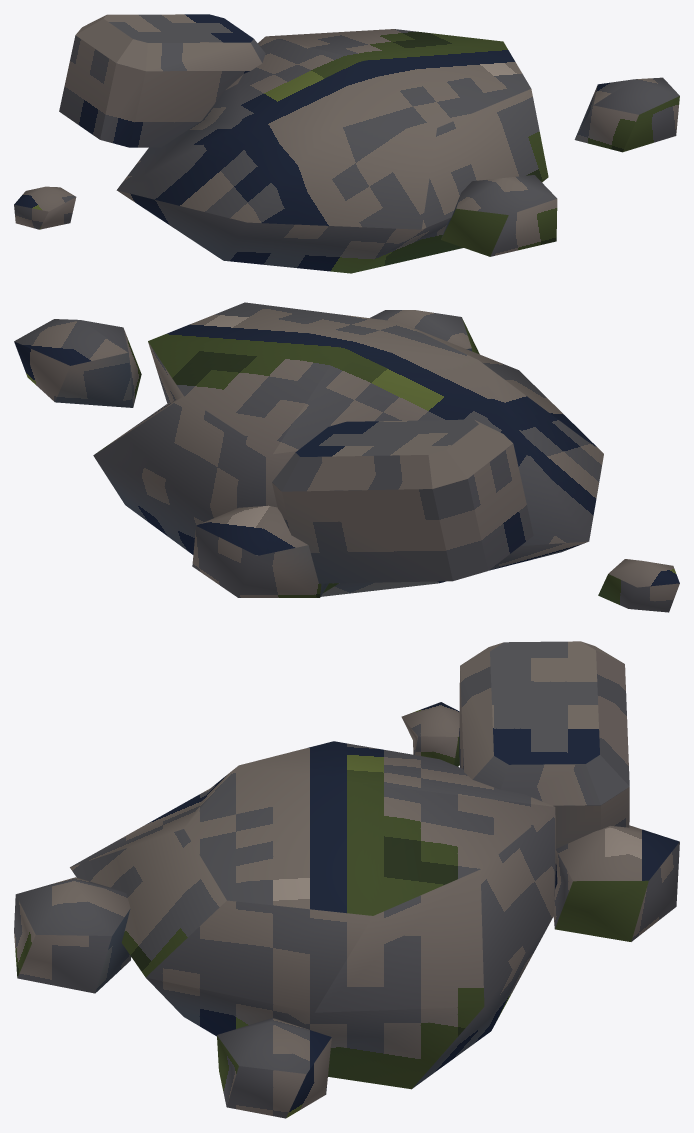
File: dgn.rubble__small.glb
The picture shows the model from 3 angles, top to bottom: view 1: azimuth 30°, elevation 25°; view 2: azimuth 150°, elevation 25°; view 3: azimuth 270°, elevation 25°; orthographic projection. The views are drawn at different scales.
Parts seen in each view (by area): view 1: kit_stones, kit_blocks; view 2: kit_stones, kit_blocks; view 3: kit_stones, kit_blocks.
Boxes of the visible parts, x1,y1,x2,y2 form: kit_stones: (14,29,679,273); kit_blocks: (59,14,265,147); kit_stones: (14,302,679,612); kit_blocks: (272,419,533,583); kit_stones: (14,702,679,1118); kit_blocks: (459,641,629,888).
Size of the model in its own units: 1.59 by 0.445 by 1.13.
2 materials, 2 textured.
